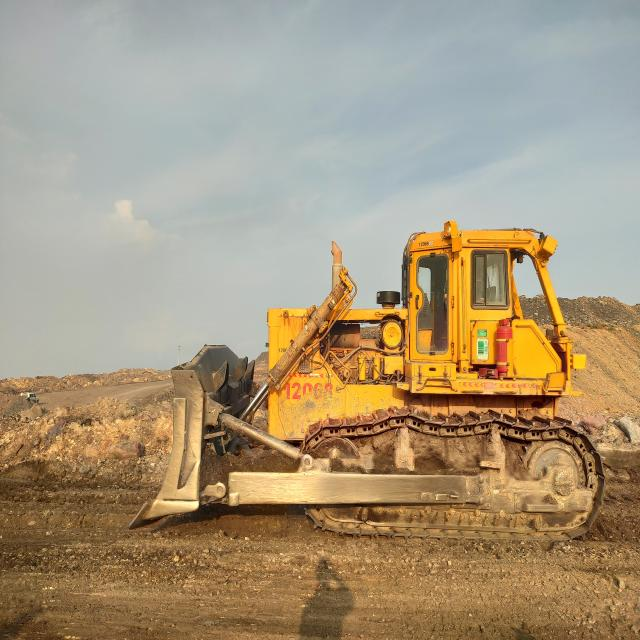buldozerpayloadergrader: (130, 222, 605, 540)
